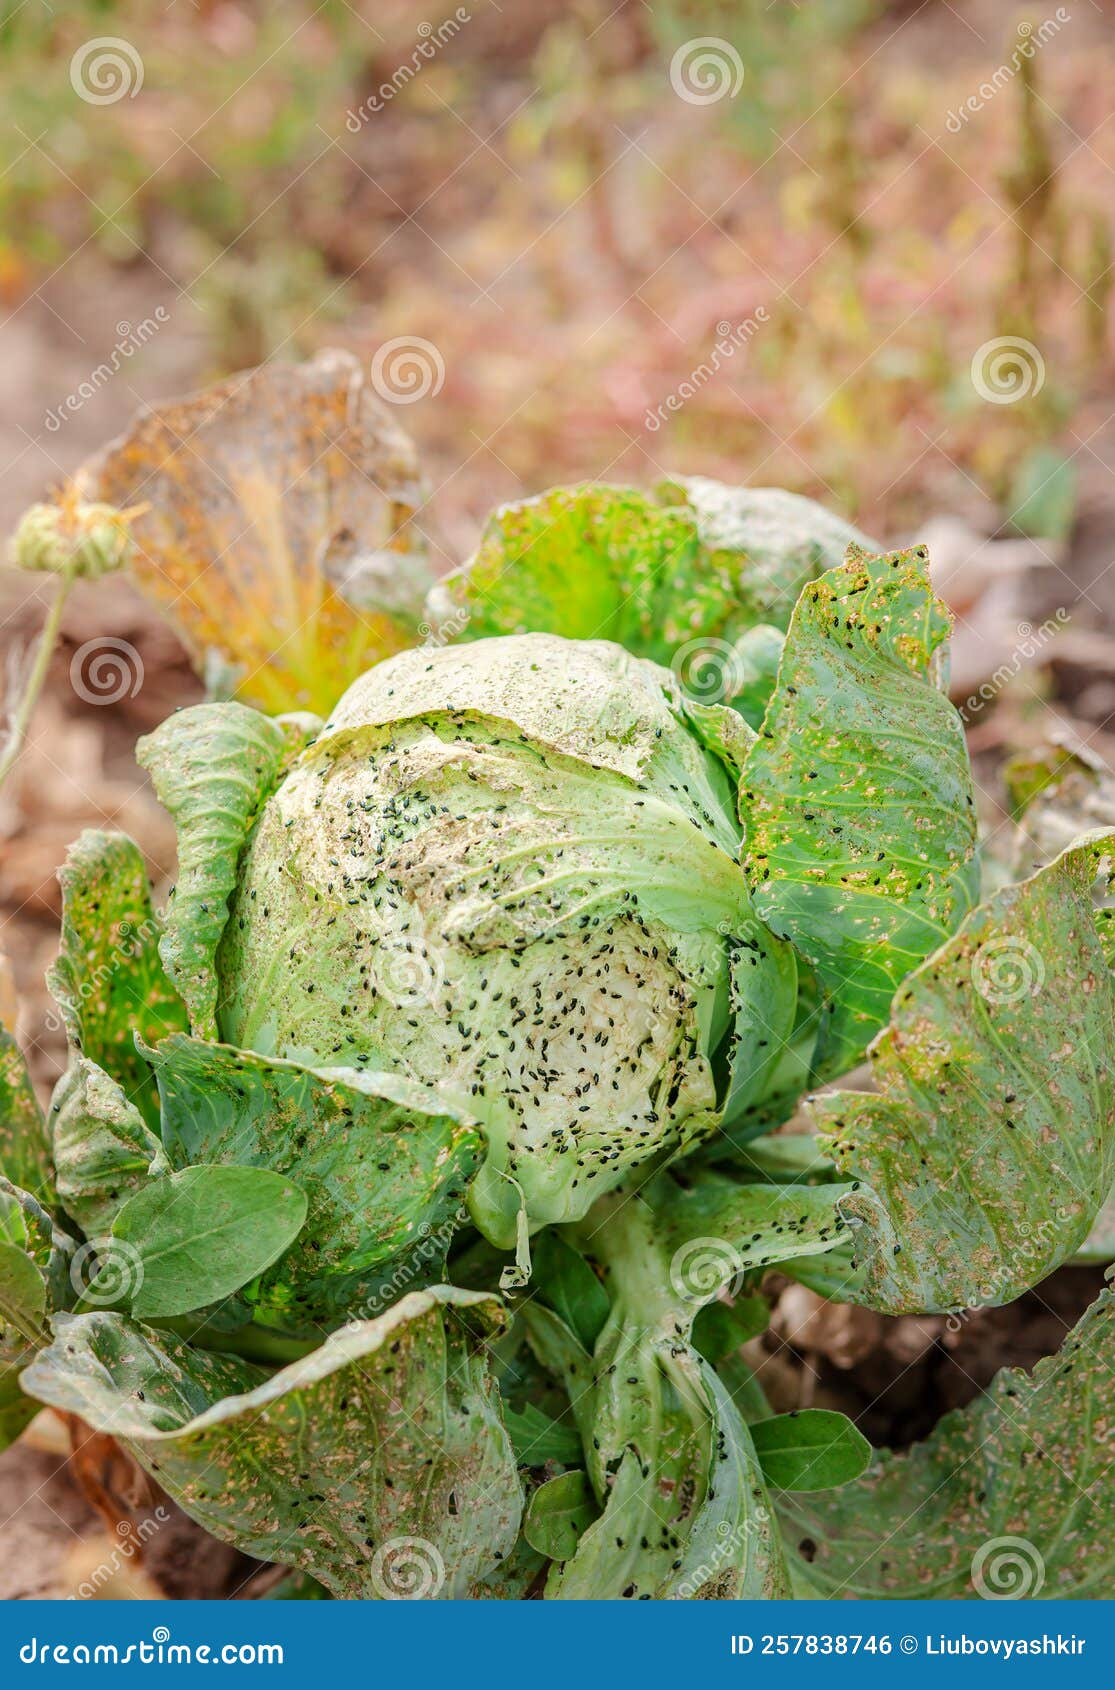Cabbage_Blight: (222, 632, 856, 1220)
